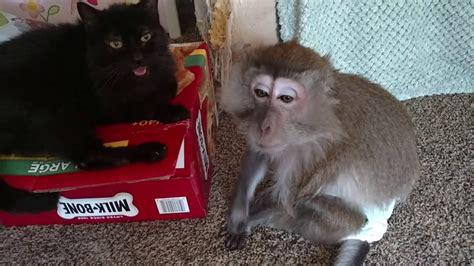cat: (1, 1, 188, 213)
monkey: (219, 43, 417, 266)
